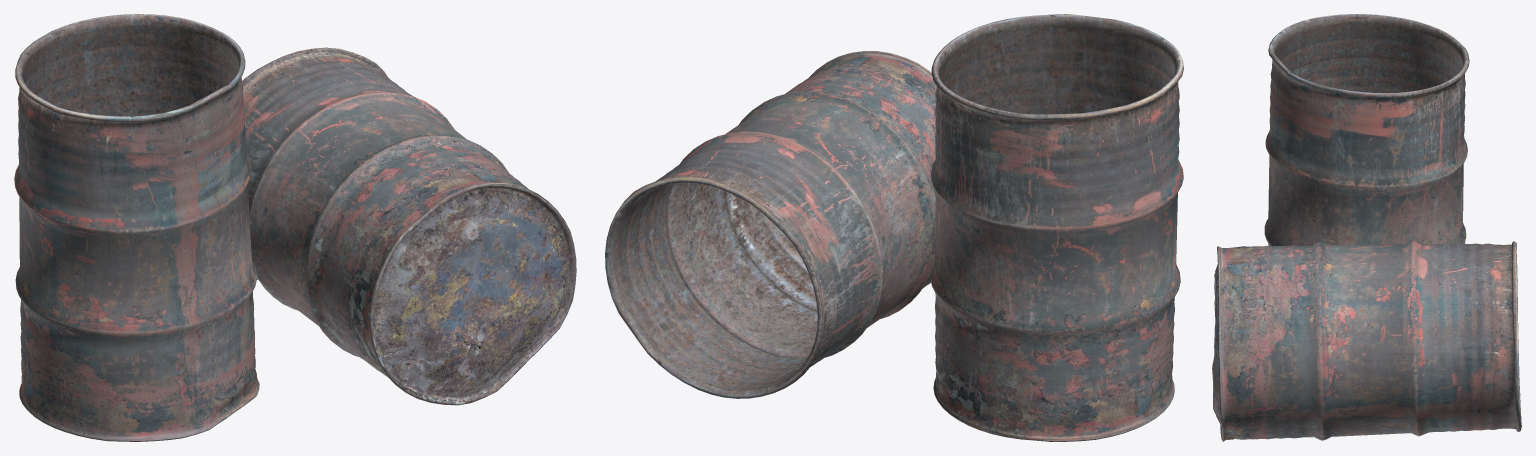
Rendered from BarrelsTest.fbx.
The picture shows the model from 3 angles, left to right: view 1: azimuth 30°, elevation 25°; view 2: azimuth 150°, elevation 25°; view 3: azimuth 270°, elevation 25°; orthographic projection. The views are drawn at different scales.
Parts seen in each view (by area): view 1: sud_low_Mesh.008; view 2: sud_low_Mesh.008; view 3: sud_low_Mesh.008.
Part boxes in pixels (box(x1,y1,x2,y2)): sud_low_Mesh.008: box(14, 14, 576, 441); sud_low_Mesh.008: box(605, 14, 1183, 441); sud_low_Mesh.008: box(1212, 14, 1521, 441).
Bounding box in the file's own units: 72.04 × 50.07 × 49.9.
Materials: 1 (1 with a texture image).
